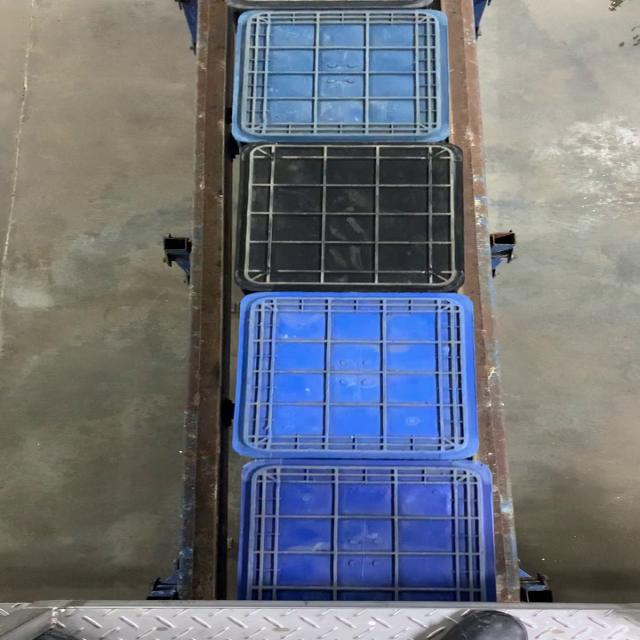Box: (233, 293, 482, 457), (234, 142, 466, 292), (228, 8, 454, 142)
